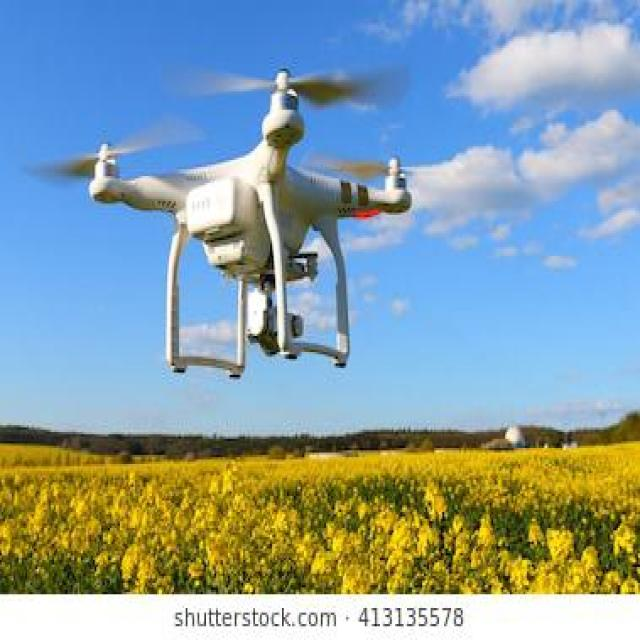drone: (19, 15, 454, 418)
